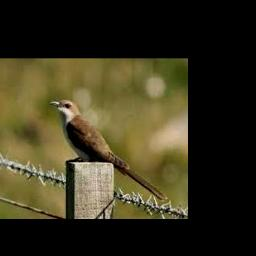Cuckoo: (50, 100, 167, 200)
